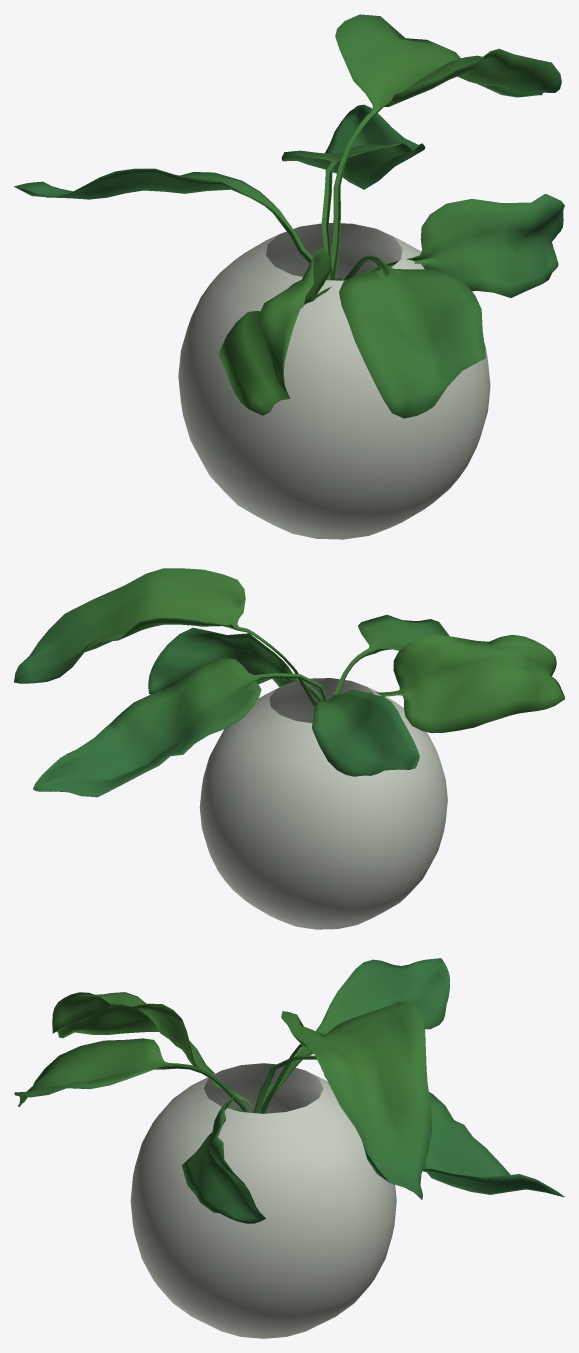
Rendered from Rastenie1.fbx.
3 renders of one model, top to bottom at view 1: azimuth 30°, elevation 25°; view 2: azimuth 150°, elevation 25°; view 3: azimuth 270°, elevation 25°, orthographic. The views are drawn at different scales.
Visible parts, largest first — view 1: Rastenie; view 2: Rastenie; view 3: Rastenie.
Boxes of the visible parts, x1,y1,x2,y2 form: Rastenie: (14, 14, 564, 539); Rastenie: (14, 568, 564, 929); Rastenie: (14, 958, 564, 1338).
Size of the model in its own units: 0.4922 by 0.5208 by 0.365.
